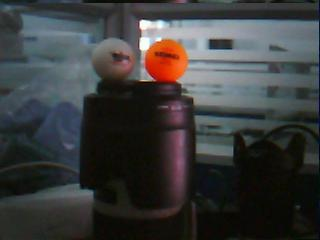oball: (144, 39, 188, 80)
